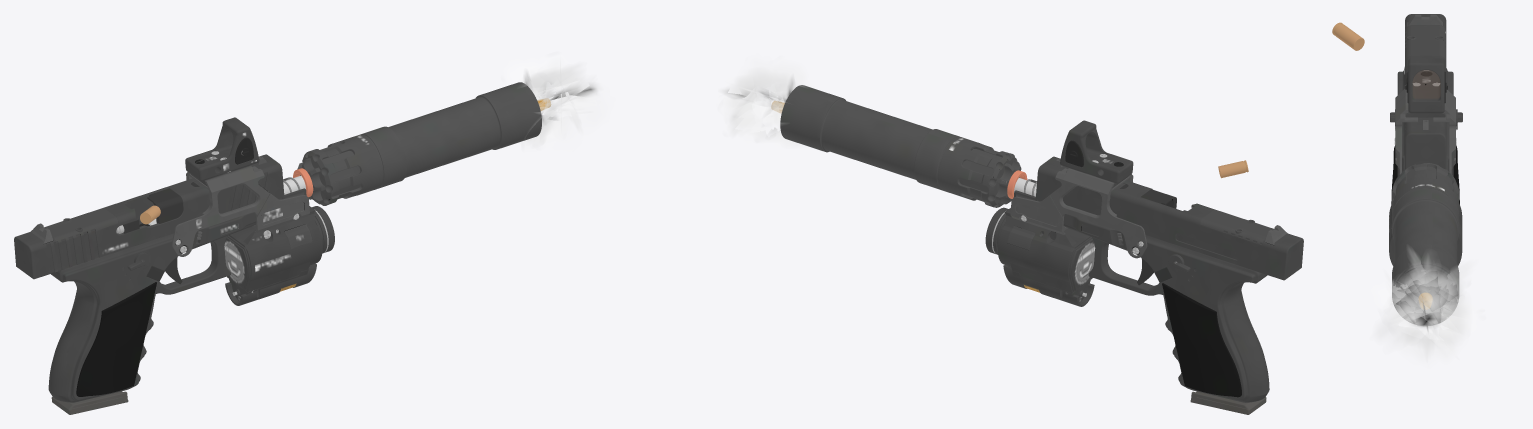
Rendered from 12-models-pistol-blend-baked-1024-c24e3451caea.glb.
3 views of the same model, side by side, from view 1: azimuth 30°, elevation 25°; view 2: azimuth 150°, elevation 25°; view 3: azimuth 270°, elevation 25° (orthographic). The views are drawn at different scales.
Visible parts, largest first — view 1: Pistol with realized muzzle fire and smoke; view 2: Pistol with realized muzzle fire and smoke; view 3: Pistol with realized muzzle fire and smoke.
Part boxes in pixels (left/top/right/bottom): Pistol with realized muzzle fire and smoke: left=14, top=56, right=606, bottom=414; Pistol with realized muzzle fire and smoke: left=719, top=60, right=1303, bottom=414; Pistol with realized muzzle fire and smoke: left=1332, top=14, right=1480, bottom=362.
Size of the model in its own units: 12.95 by 5.24 by 2.9.
41 materials, 41 textured.
